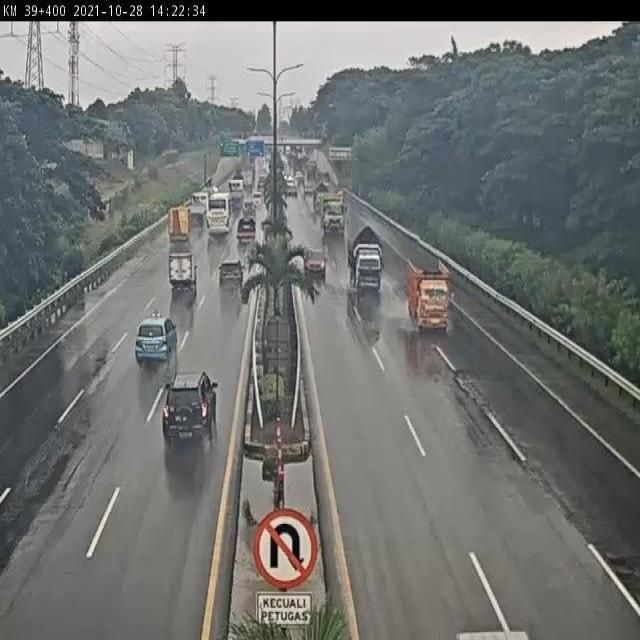Bus: (206, 186, 233, 244)
Car: (160, 372, 217, 448), (132, 312, 177, 370), (217, 253, 245, 299), (304, 245, 327, 289), (233, 212, 260, 249), (283, 168, 299, 203)
Truck: (404, 250, 455, 339), (348, 222, 388, 303), (317, 183, 347, 240), (168, 249, 198, 298), (168, 204, 193, 246)
